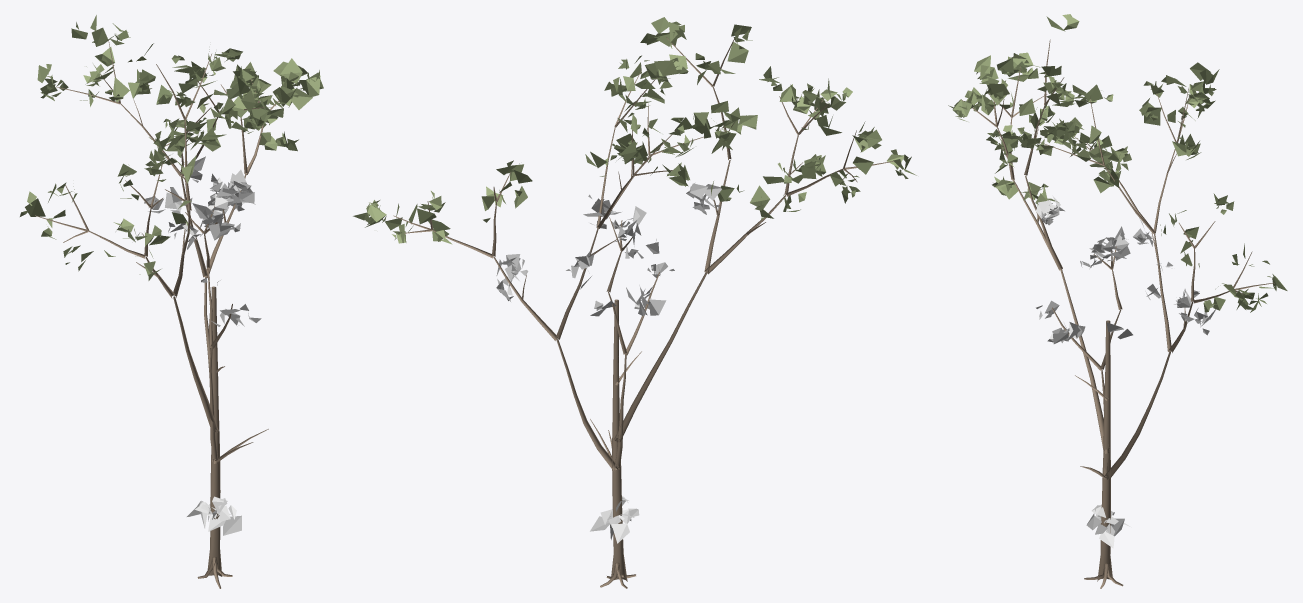
Rendered from tree-b.glb.
3 renders of one model, left to right at view 1: azimuth 30°, elevation 25°; view 2: azimuth 150°, elevation 25°; view 3: azimuth 270°, elevation 25°, orthographic. The views are drawn at different scales.
Parts seen in each view (by area): view 1: leafB, wood, leafBDeep; view 2: leafB, wood, leafBDeep; view 3: leafB, wood, leafBDeep.
Part boxes in pixels (x1,y1,x2,y2): leafB: (20, 15, 323, 280); wood: (35, 40, 278, 588); leafBDeep: (144, 156, 261, 535); leafB: (353, 17, 916, 244); wood: (393, 37, 894, 588); leafBDeep: (496, 183, 721, 543); leafB: (948, 14, 1287, 312); wood: (962, 39, 1274, 588); leafBDeep: (1036, 195, 1215, 548).
Size of the model in its own units: 16.3 by 21.74 by 12.82.
